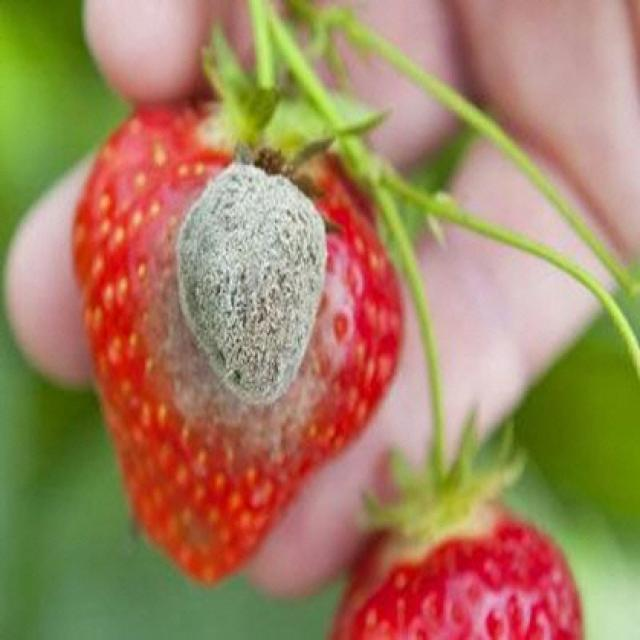Gray Mold: (75, 105, 425, 585)
